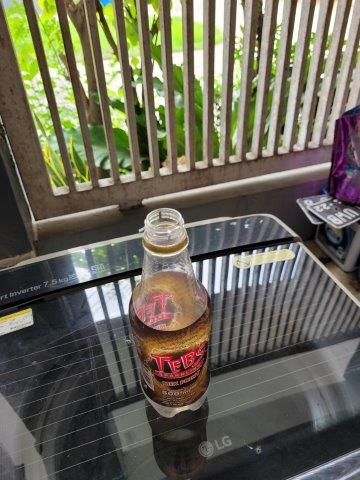botolplastik: (130, 209, 215, 414)
